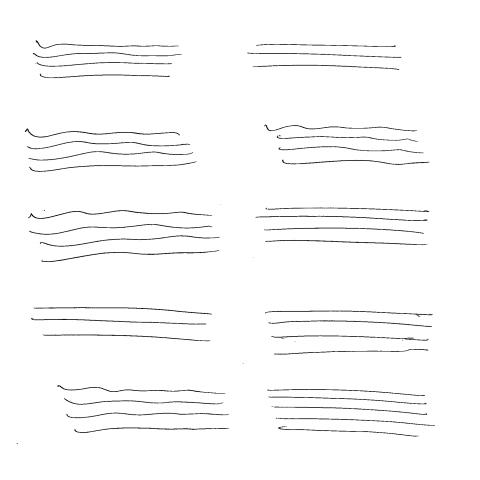Paragraph: (29, 211, 221, 264), (58, 386, 230, 434), (268, 390, 436, 439), (266, 311, 434, 356), (26, 130, 196, 174), (256, 208, 431, 247), (266, 126, 432, 167), (30, 308, 214, 343), (33, 42, 182, 80), (247, 44, 403, 71)
